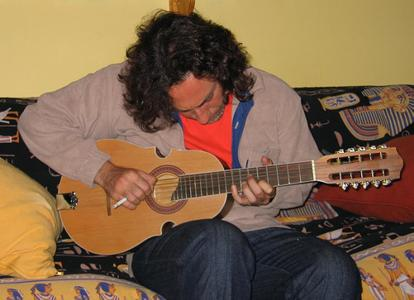person: (18, 12, 362, 299)
